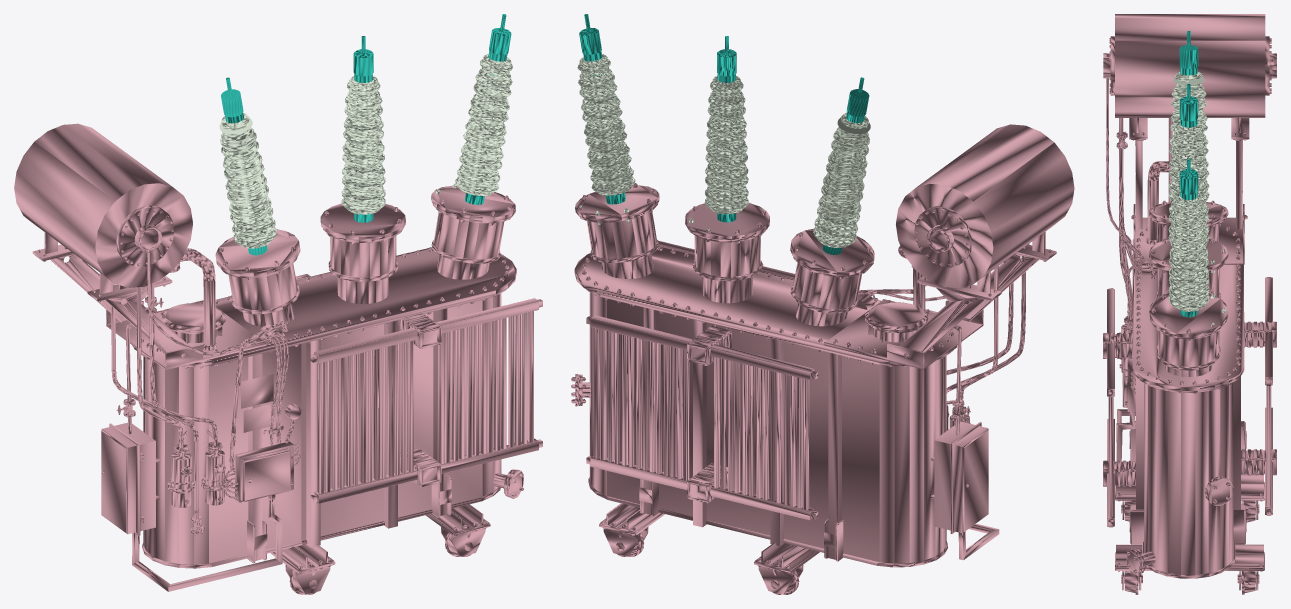
File: Transphormator N121015.glb
The picture shows the model from 3 angles, left to right: view 1: azimuth 30°, elevation 25°; view 2: azimuth 150°, elevation 25°; view 3: azimuth 270°, elevation 25°; orthographic projection. The views are drawn at different scales.
Parts seen in each view (by area): view 1: node_id8; view 2: node_id8; view 3: node_id8.
Part boxes in pixels (x1=…): node_id8: x1=14, y1=14, x2=542, y2=594; node_id8: x1=571, y1=14, x2=1074, y2=594; node_id8: x1=1103, y1=14, x2=1276, y2=594.
Bounding box in the file's own units: 0.00473 × 0.00512 × 0.00169.
